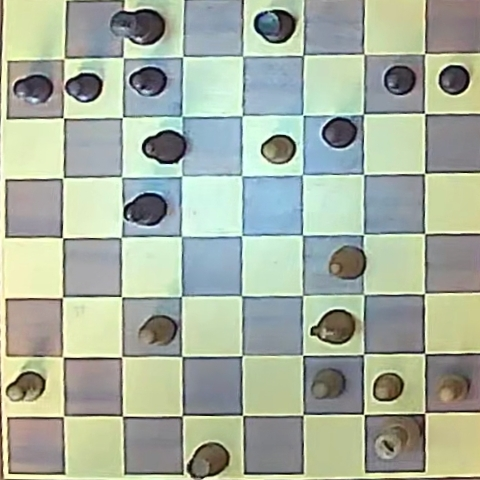black-bishop: (124, 193, 167, 226)
black-king: (111, 8, 164, 46)
black-pawn: (141, 129, 186, 165), (65, 71, 104, 102), (13, 74, 53, 104), (322, 117, 358, 148), (129, 66, 166, 96), (261, 134, 296, 164), (438, 64, 470, 95), (383, 65, 415, 95)
black-rook: (254, 9, 295, 44)
white-bishop: (328, 246, 366, 280)
white-king: (373, 416, 421, 462)
white-knight: (312, 309, 356, 345)
white-pawn: (138, 315, 176, 347), (6, 372, 45, 403), (311, 369, 344, 399), (436, 375, 468, 403), (373, 373, 404, 401)
white-rook: (187, 443, 229, 478)
